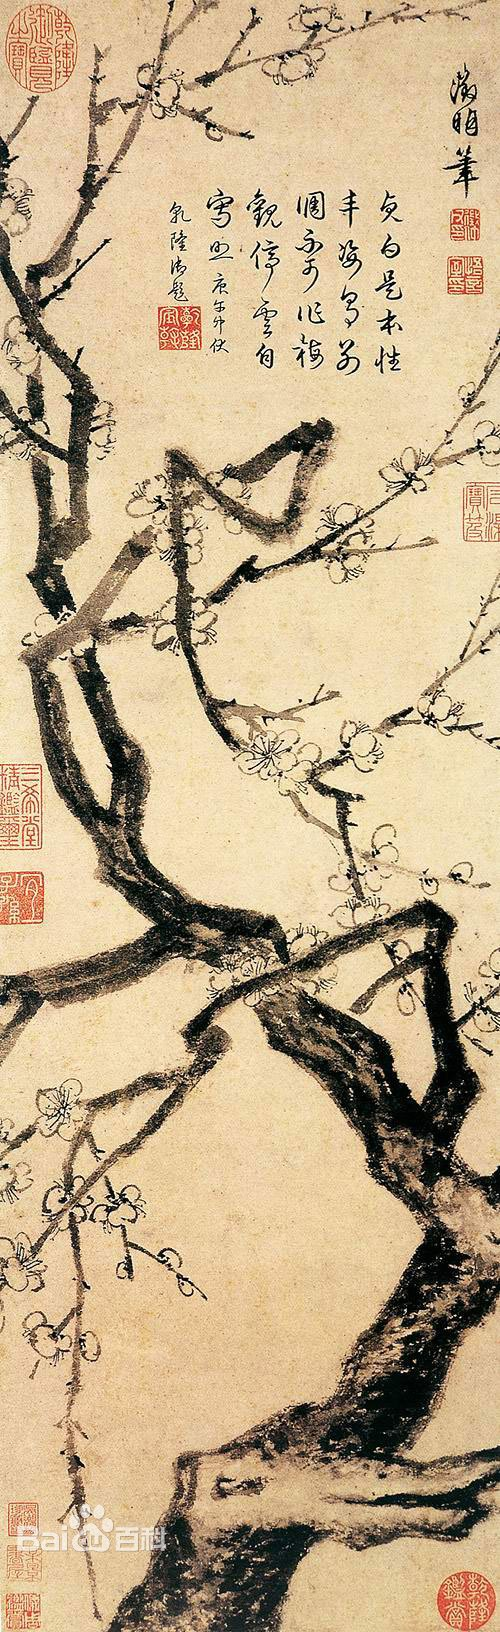plum: (133, 1137, 488, 1621), (233, 678, 495, 1130), (9, 137, 164, 899), (5, 1076, 216, 1385), (171, 394, 500, 587), (114, 7, 435, 138)
